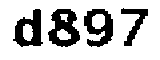7: (119, 4, 150, 51)
8: (48, 7, 80, 51)
9: (82, 6, 116, 52)
d: (11, 7, 44, 53)
